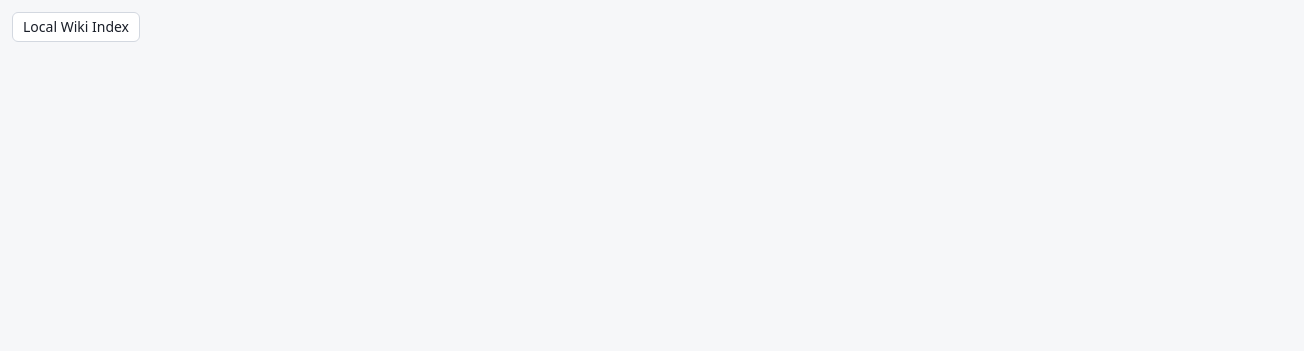
Local Wiki Index controls › builds with progress, stops through the task, and refreshes only from a ready index
Click the button "Local Wiki Index".
click(76, 27)  # box [12, 12, 140, 42]
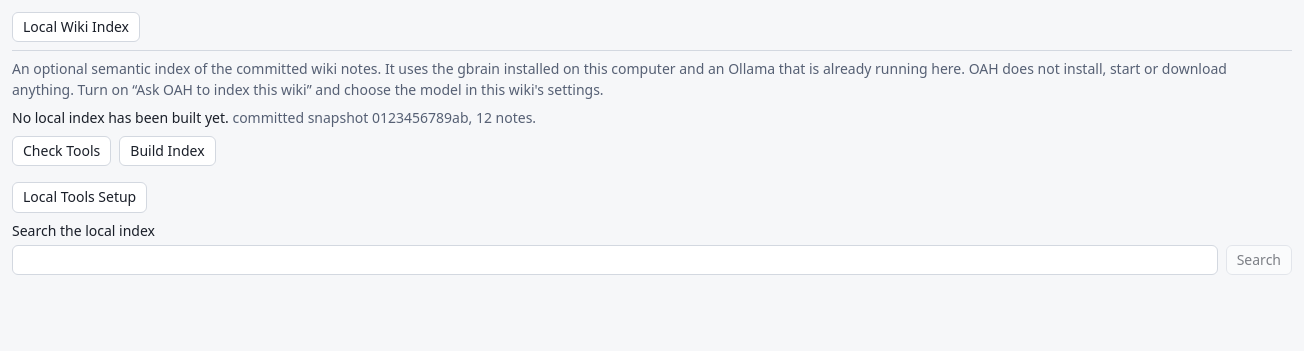
Click the button "Build Index".
click(167, 151)  # box [119, 136, 216, 166]
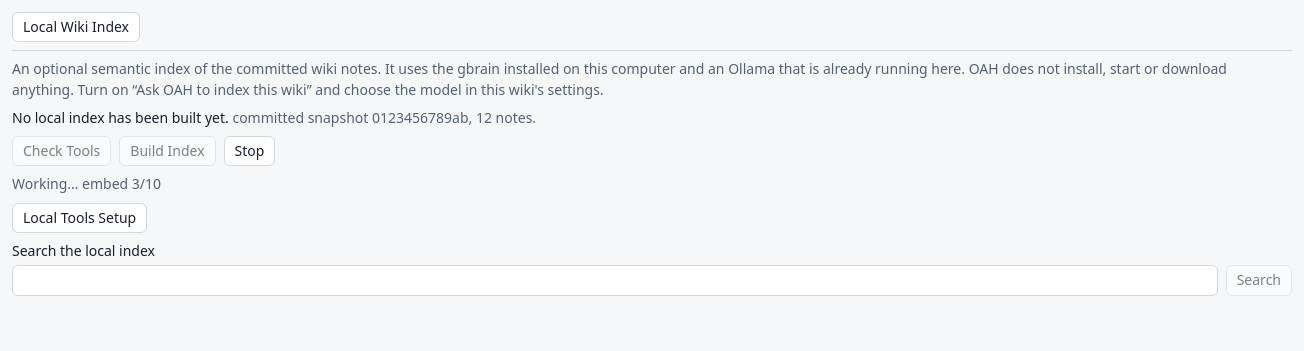
Click the button "Stop".
click(250, 151)  # box [224, 136, 275, 166]
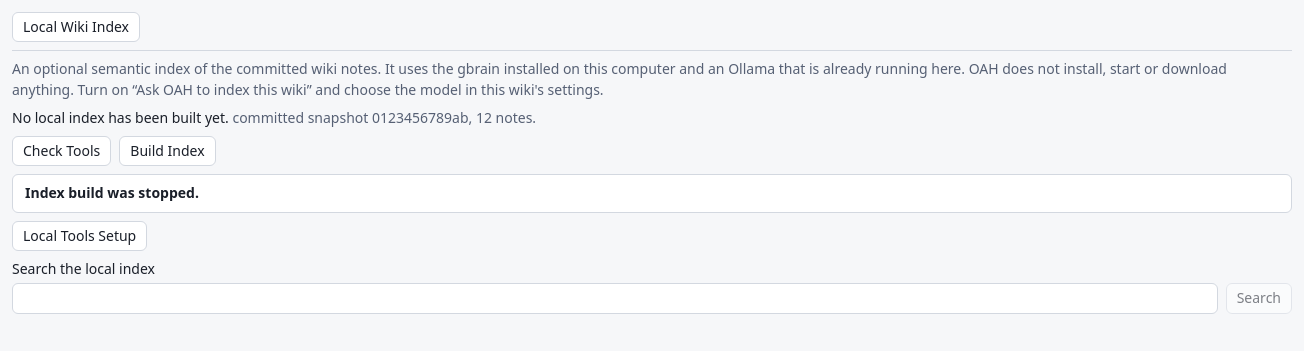
Expected: the text "Index build was stopped." is shown, [25, 184, 199, 202]
Click the button "Build Index".
click(167, 151)  # box [119, 136, 216, 166]
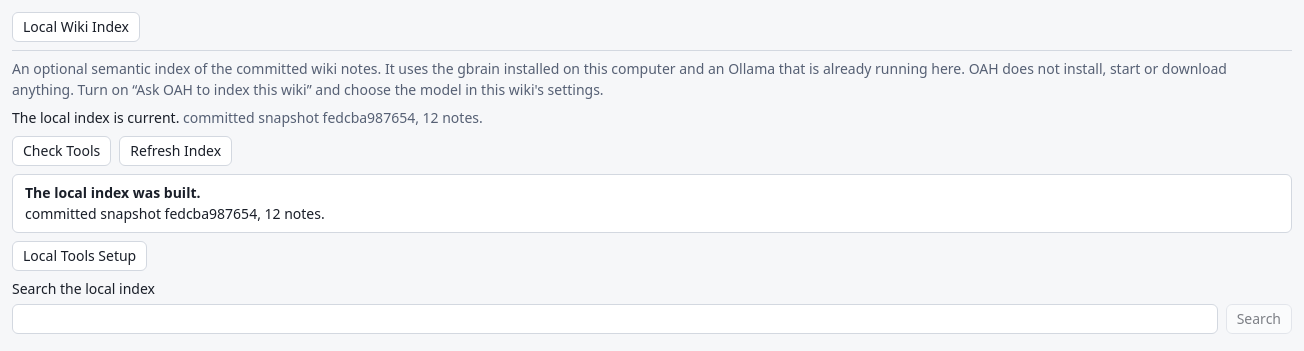
Expected: the element with class "wiki-index-state" shows "The local index is current.", [12, 108, 179, 127]
